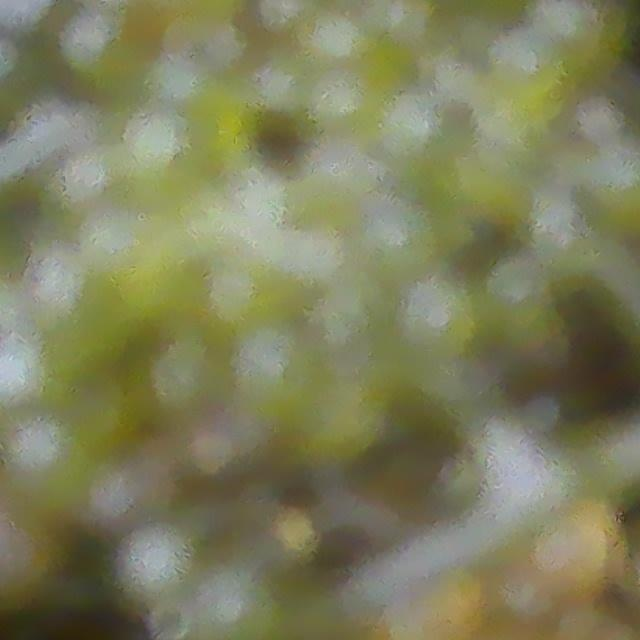SeaGrape: (389, 265, 494, 371), (184, 558, 293, 640), (540, 512, 625, 606), (113, 522, 202, 608), (365, 580, 487, 640), (122, 107, 192, 181), (61, 146, 119, 205)
